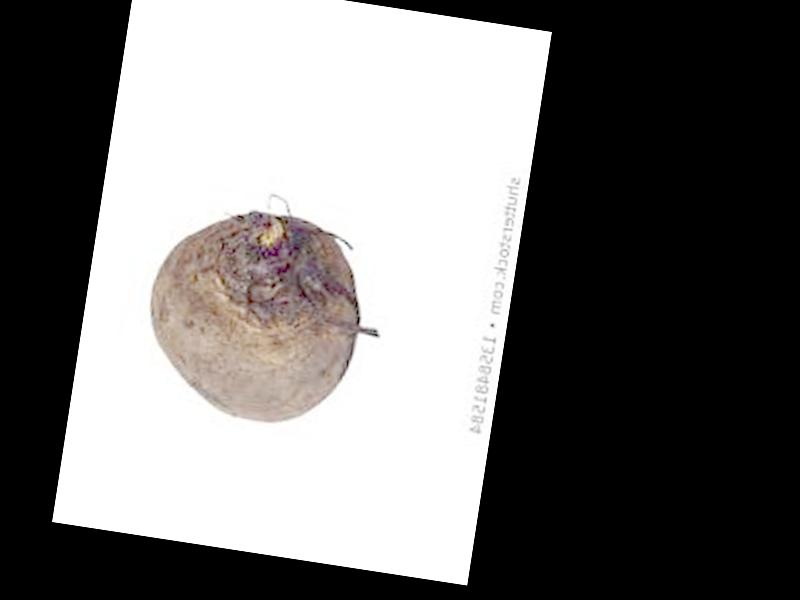Beet: (135, 199, 371, 436)
